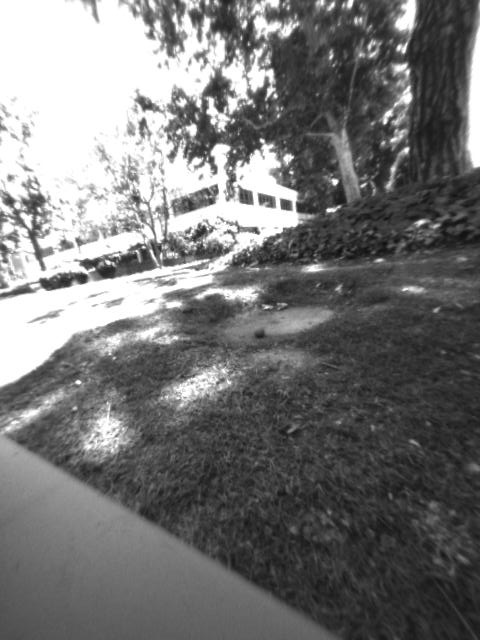dogtoy: (246, 319, 272, 343)
